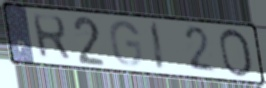2: (72, 13, 108, 69), (184, 24, 219, 77)
G: (108, 19, 145, 69)
I: (149, 19, 167, 73)
O: (217, 27, 256, 80)
R: (30, 13, 73, 63)
